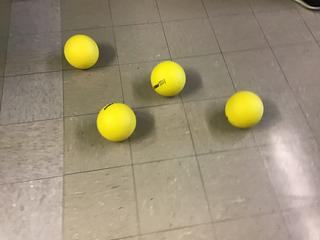power_cell: (96, 101, 139, 145), (223, 90, 268, 132), (61, 32, 104, 73), (146, 59, 189, 100)
